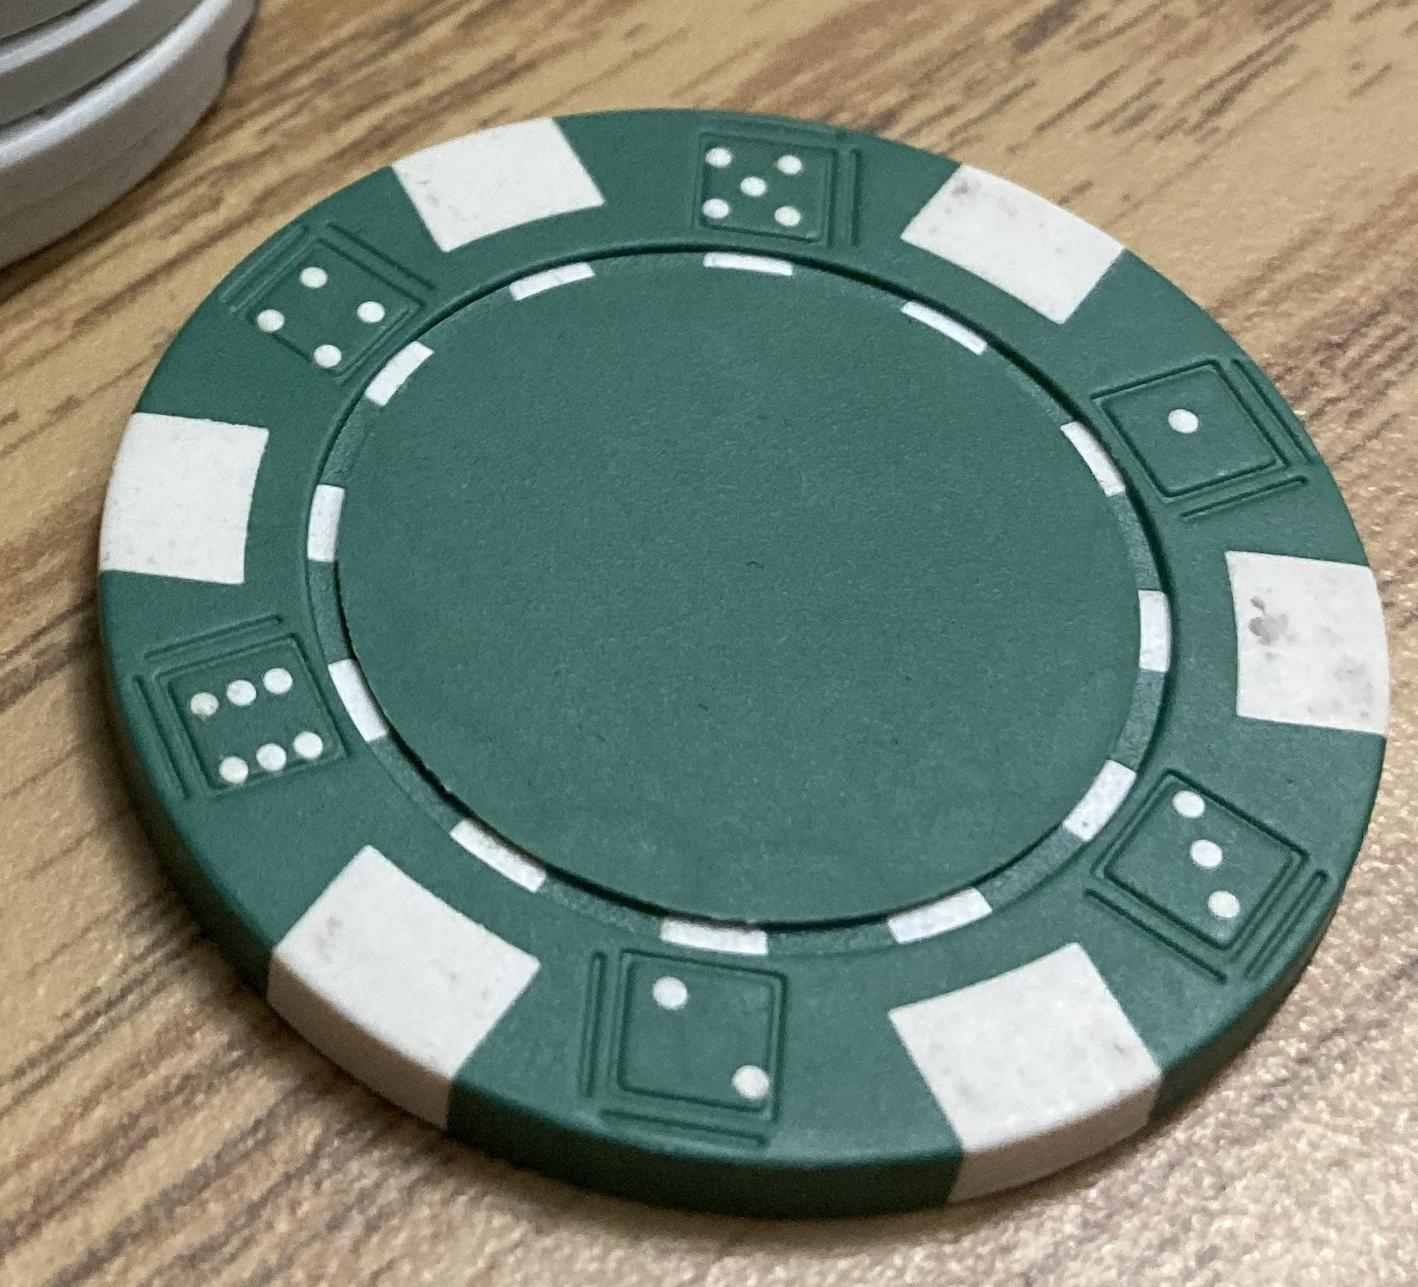Chip: (1, 1, 1418, 1287)
